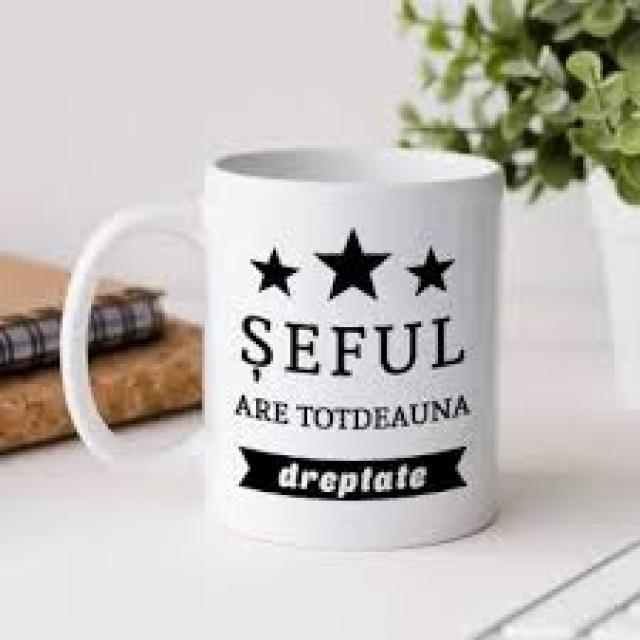taza: (49, 140, 518, 540)
